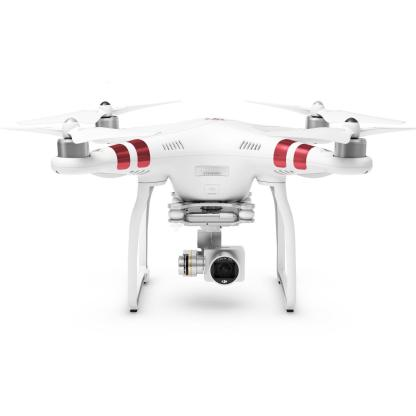drone: (18, 73, 414, 228)
